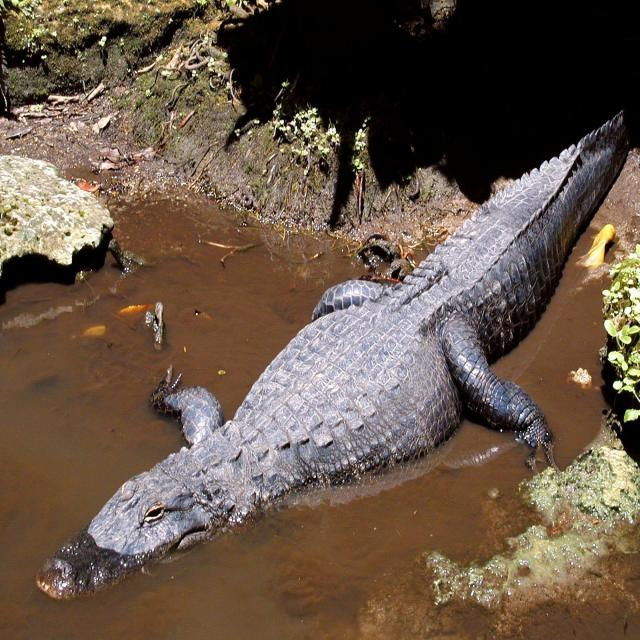crocodile: (40, 119, 632, 617)
